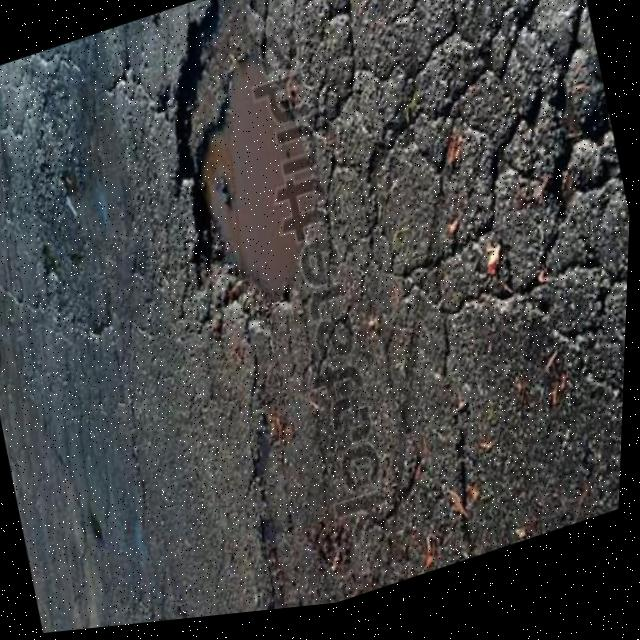Pothole: (122, 0, 357, 369), (0, 112, 9, 210)
